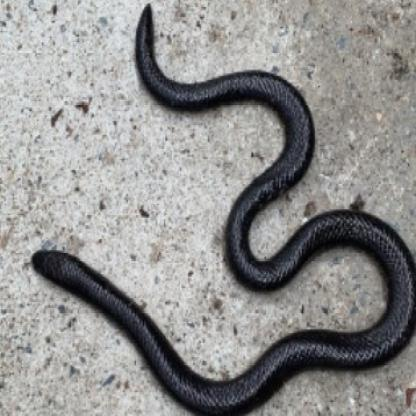snakes: (28, 0, 415, 410)
